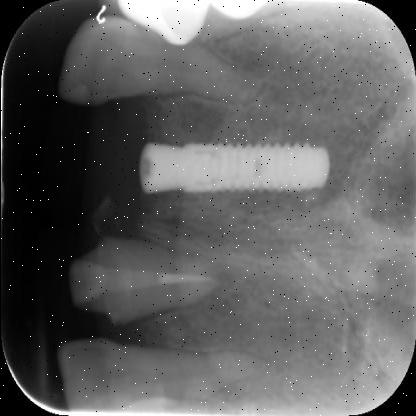ITI: (177, 140, 331, 197)
